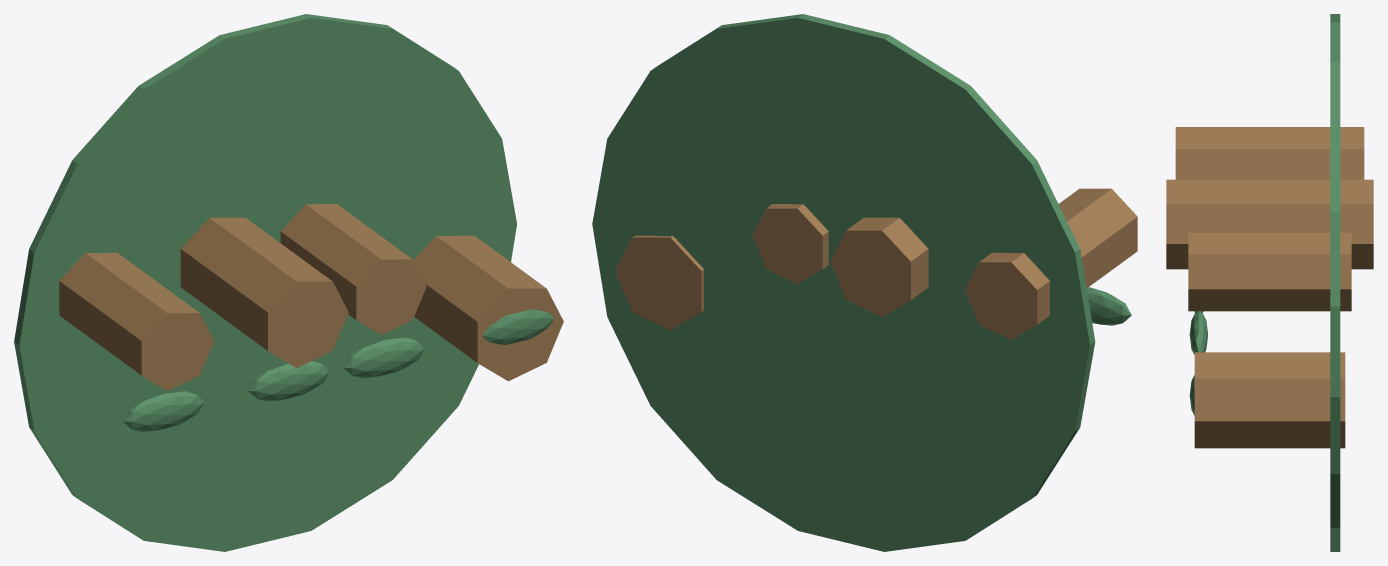
Rendered from 02_display_prop_cluster.glb.
3 renders of one model, left to right at view 1: azimuth 30°, elevation 25°; view 2: azimuth 150°, elevation 25°; view 3: azimuth 270°, elevation 25°, orthographic. The views are drawn at different scales.
Parts seen in each view (by area): view 1: scatter_base, root_stump_1, root_stump_0, root_stump_3, root_stump_2, moss_0, moss_2, moss_1, moss_3; view 2: scatter_base, root_stump_0, root_stump_1, root_stump_3, root_stump_2, moss_0; view 3: root_stump_3, root_stump_1, root_stump_2, root_stump_0, scatter_base, moss_2.
Part boxes in pixels (x1=…): scatter_base: x1=14, y1=14, x2=516, y2=551; root_stump_1: x1=180, y1=217, x2=348, y2=367; root_stump_0: x1=59, y1=252, x2=213, y2=390; root_stump_3: x1=413, y1=235, x2=563, y2=381; root_stump_2: x1=280, y1=204, x2=426, y2=334; moss_0: x1=123, y1=391, x2=204, y2=431; moss_2: x1=343, y1=337, x2=424, y2=378; moss_1: x1=248, y1=361, x2=329, y2=401; moss_3: x1=483, y1=309, x2=553, y2=344; scatter_base: x1=592, y1=14, x2=1095, y2=551; root_stump_0: x1=965, y1=188, x2=1137, y2=339; root_stump_1: x1=830, y1=217, x2=928, y2=316; root_stump_3: x1=615, y1=235, x2=703, y2=330; root_stump_2: x1=752, y1=204, x2=828, y2=283; moss_0: x1=1087, y1=287, x2=1131, y2=325; root_stump_3: x1=1194, y1=352, x2=1345, y2=448; root_stump_1: x1=1166, y1=179, x2=1373, y2=269; root_stump_2: x1=1188, y1=233, x2=1351, y2=311; root_stump_0: x1=1175, y1=127, x2=1364, y2=179; scatter_base: x1=1330, y1=14, x2=1340, y2=551; moss_2: x1=1189, y1=311, x2=1207, y2=354.
Size of the model in its own units: 1.9 by 1.87 by 0.7295.
